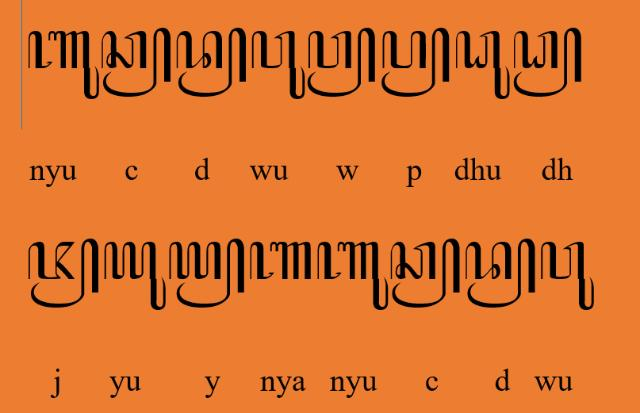-c: (388, 237, 462, 309), (100, 27, 172, 97)
-d: (176, 27, 248, 99), (465, 238, 537, 308)
-dh: (512, 27, 582, 98)
-j: (29, 237, 100, 309)
-p: (380, 27, 450, 98)
-w: (306, 27, 378, 97)
-y: (168, 238, 246, 308)
dhu: (456, 29, 512, 100)
ny1: (248, 242, 312, 281)
nyu1: (316, 240, 389, 312), (28, 30, 100, 100)
wu: (540, 240, 596, 312), (251, 29, 305, 101)
yu: (103, 240, 167, 310)
